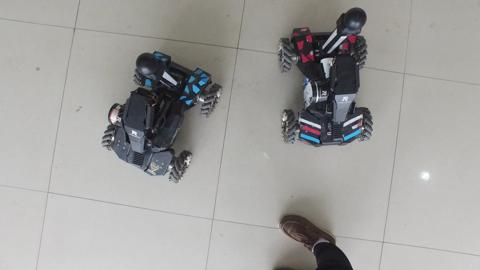chariot: (96, 45, 227, 193), (272, 3, 379, 155)
